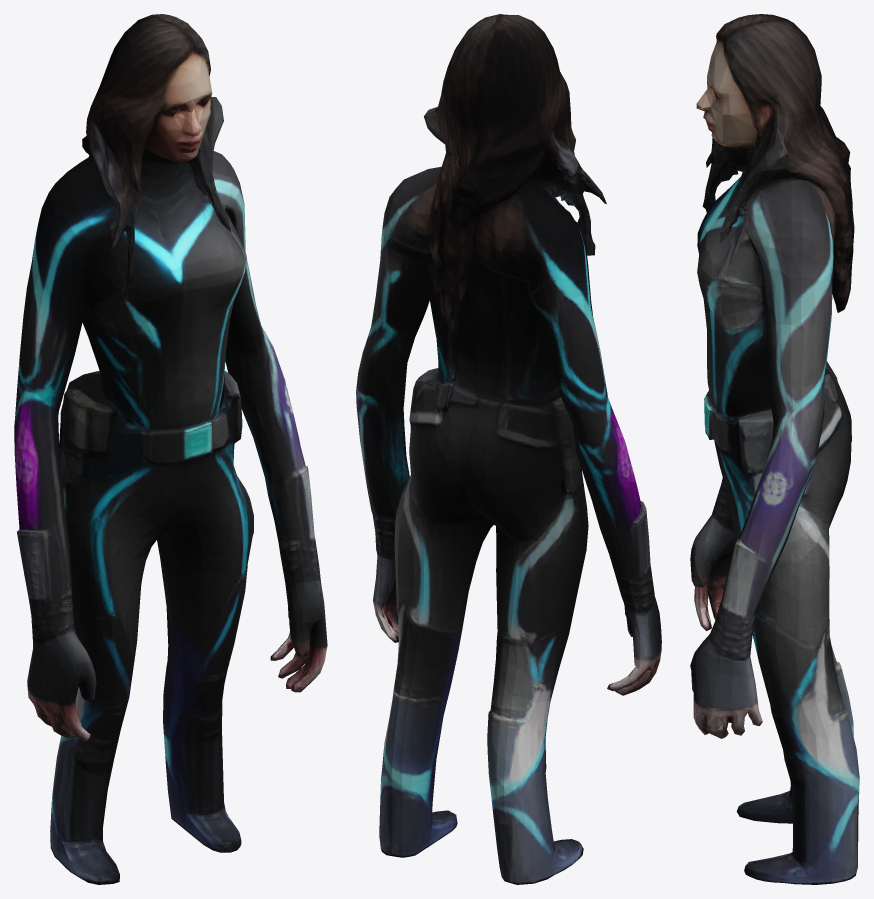
The model's file is kitty_pryde.glb.
3 renders of one model, left to right at view 1: azimuth 30°, elevation 25°; view 2: azimuth 150°, elevation 25°; view 3: azimuth 270°, elevation 25°, orthographic. The views are drawn at different scales.
Visible parts, largest first — view 1: world; view 2: world; view 3: world.
Part boxes in pixels (x1,y1,x2,y2): world: [14, 14, 327, 884]; world: [356, 14, 661, 884]; world: [690, 14, 859, 884].
Size of the model in its own units: 0.3555 by 0.9997 by 0.1865.
Materials: 1 (1 with a texture image).
